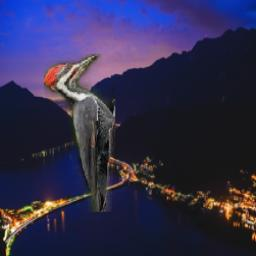Woodpecker: (44, 54, 115, 212)
